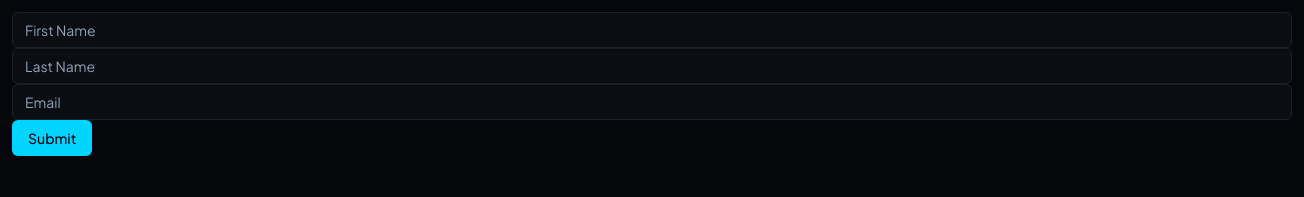
Test: UI-INT-005: Keyboard Navigation › Form submission › submits form with Enter in input
Type "test@example.com" into the field with placeholder "Email".
click(652, 102); type("test@example.com")  # box [12, 84, 1292, 120]
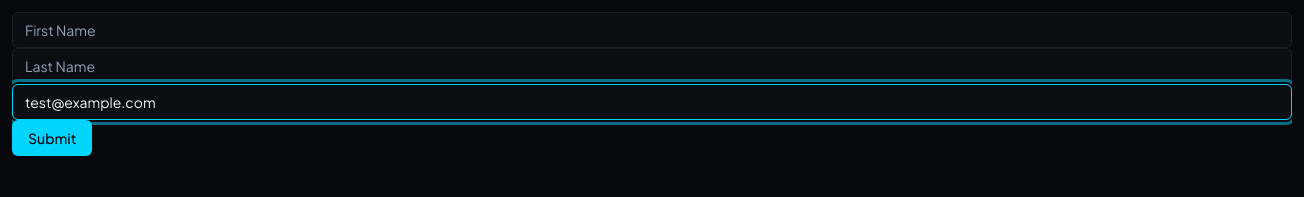
Press Enter
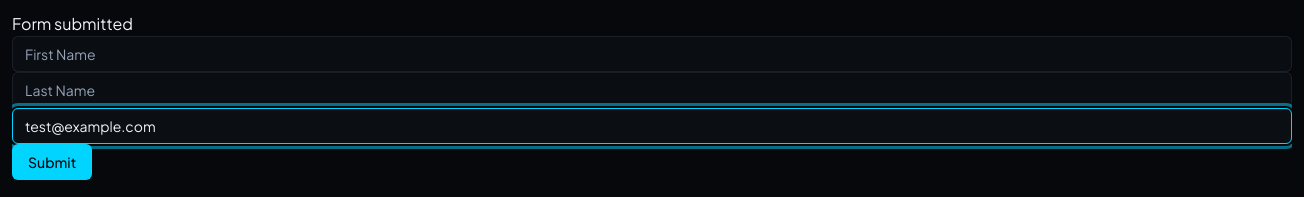
expect the text "Form submitted" is shown: met, box [12, 13, 133, 34]
